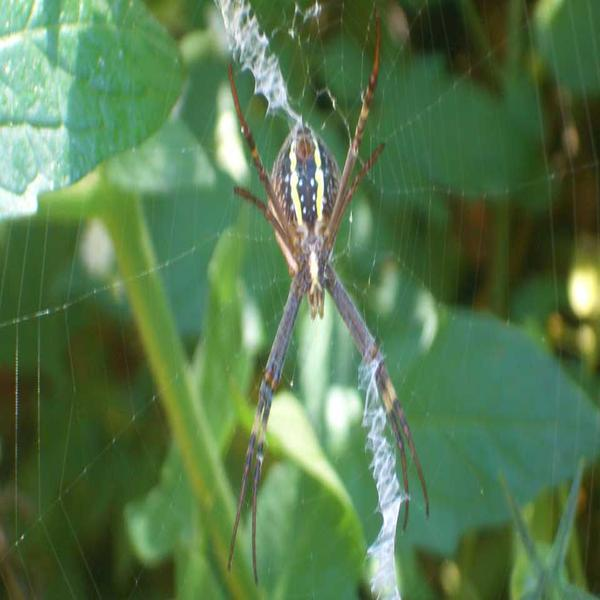St Andrew's Cross Spider: (228, 25, 425, 551)
